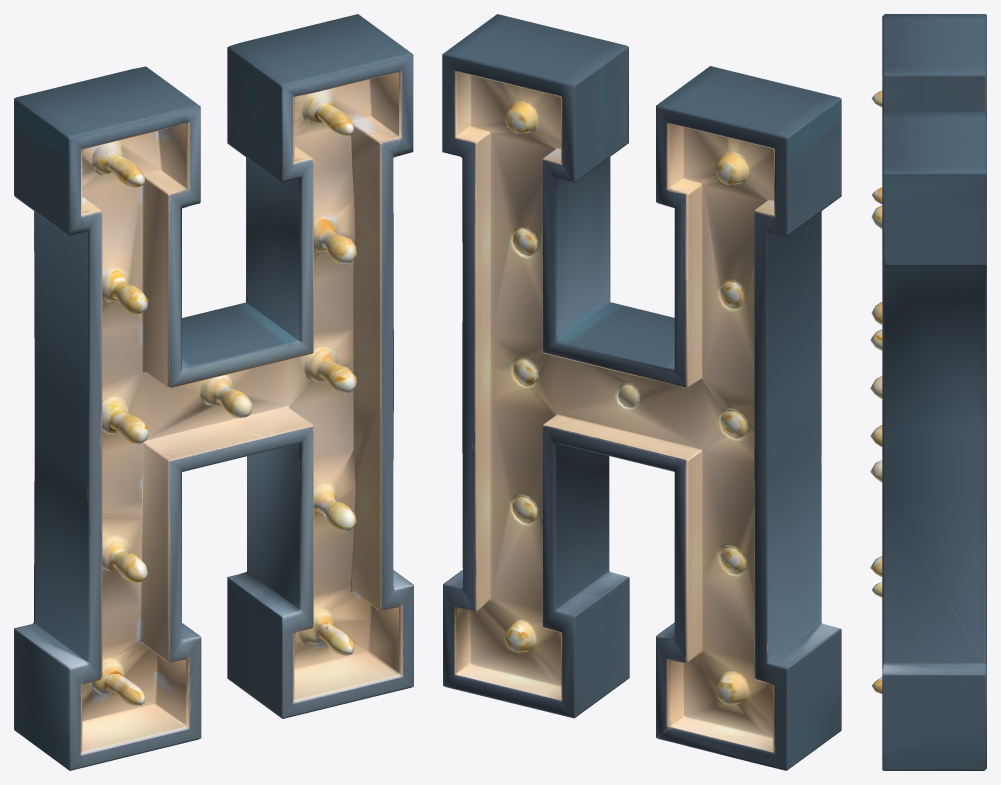
Rendered from Letter_H.glb.
3 renders of one model, left to right at view 1: azimuth 30°, elevation 25°; view 2: azimuth 150°, elevation 25°; view 3: azimuth 270°, elevation 25°, orthographic. The views are drawn at different scales.
Parts seen in each view (by area): view 1: Mesh_0; view 2: Mesh_0; view 3: Mesh_0.
Boxes of the visible parts, x1,y1,x2,y2 form: Mesh_0: (14,14,413,770); Mesh_0: (442,14,841,770); Mesh_0: (870,14,986,770).
Bounding box in the file's own units: 0.5201 × 0.9144 × 0.1615.
Materials: 1 (1 with a texture image).
